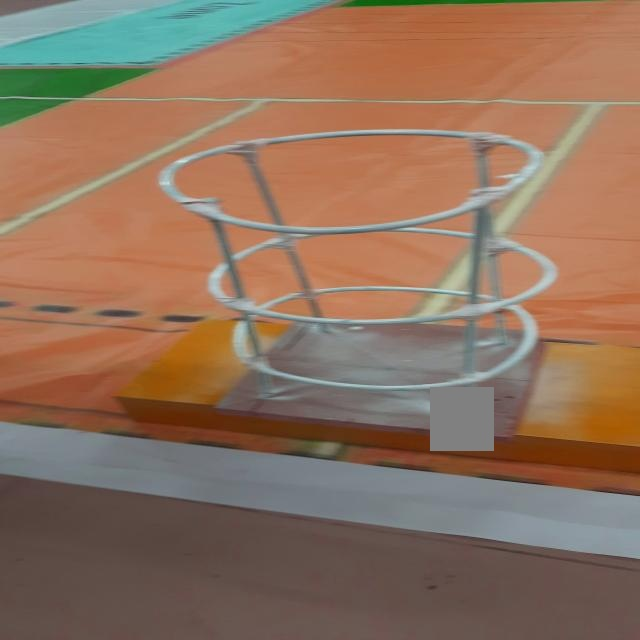silo: (132, 116, 571, 442)
